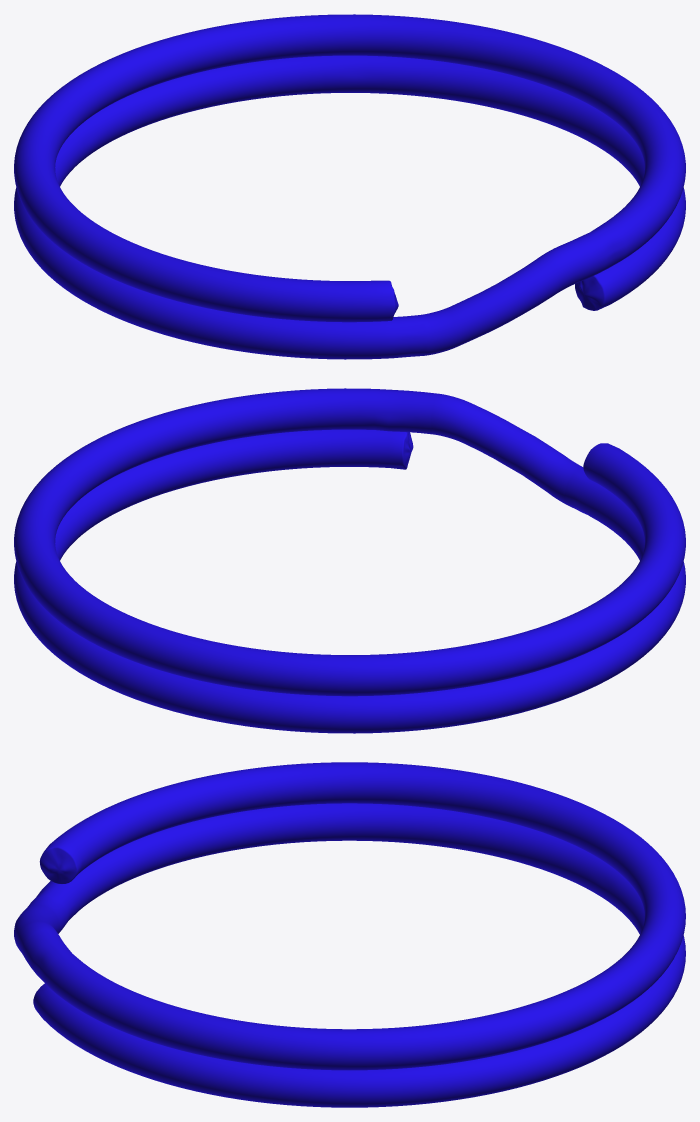
The model's file is PinMain2.fbx.
The picture shows the model from 3 angles, top to bottom: view 1: azimuth 30°, elevation 25°; view 2: azimuth 150°, elevation 25°; view 3: azimuth 270°, elevation 25°; orthographic projection.
Visible parts, largest first — view 1: inel hd; view 2: inel hd; view 3: inel hd.
Boxes of the visible parts, x1,y1,x2,y2 form: inel hd: (14,14,685,359); inel hd: (14,388,685,733); inel hd: (14,762,685,1107).
Size of the model in its own units: 2.45 by 0.3012 by 2.45.
